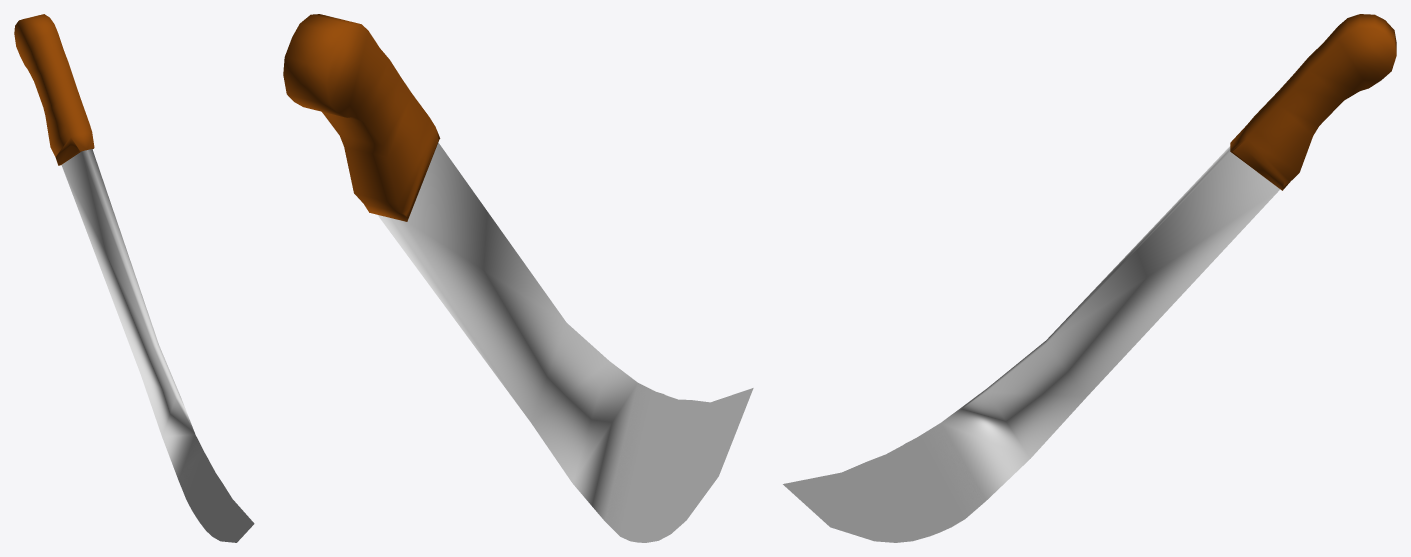
Rendered from machete.fbx.
The picture shows the model from 3 angles, left to right: view 1: azimuth 30°, elevation 25°; view 2: azimuth 150°, elevation 25°; view 3: azimuth 270°, elevation 25°; orthographic projection. The views are drawn at different scales.
Parts seen in each view (by area): view 1: Cube; view 2: Cube; view 3: Cube.
Boxes of the visible parts, box(x1,y1,x2,y2) form: Cube: box(14, 14, 254, 542); Cube: box(283, 14, 753, 542); Cube: box(783, 14, 1396, 542).
Size of the model in its own units: 28.92 by 460 by 490.
